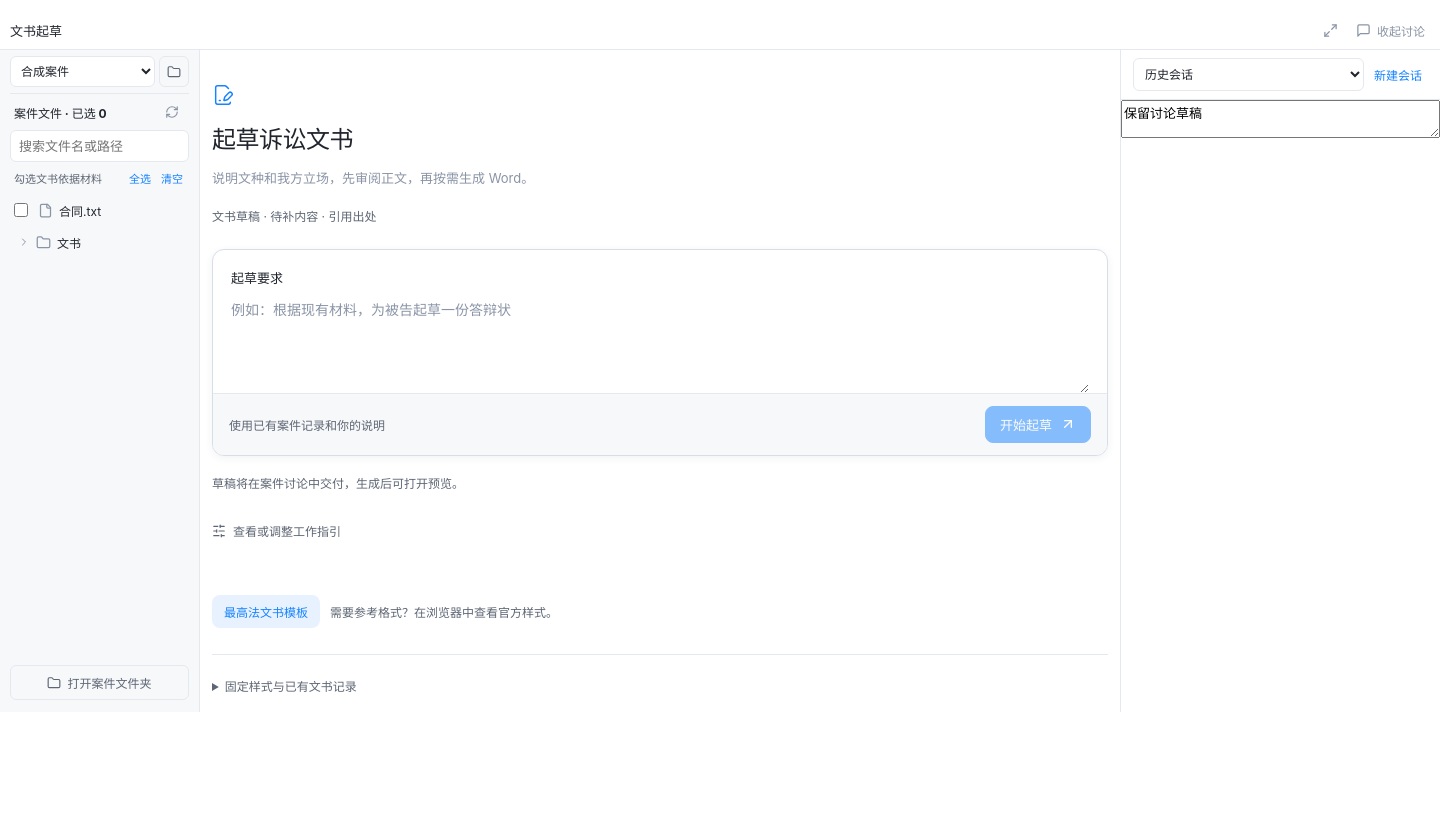
Scenario: expanded work area hides both panels and restores their content and draft
Expected: the button "合同.txt" is shown, [30,194,189,226]
Click the button named "展开工作区" at {"x": 1330, "y": 30}, box [1318,16,1343,45]
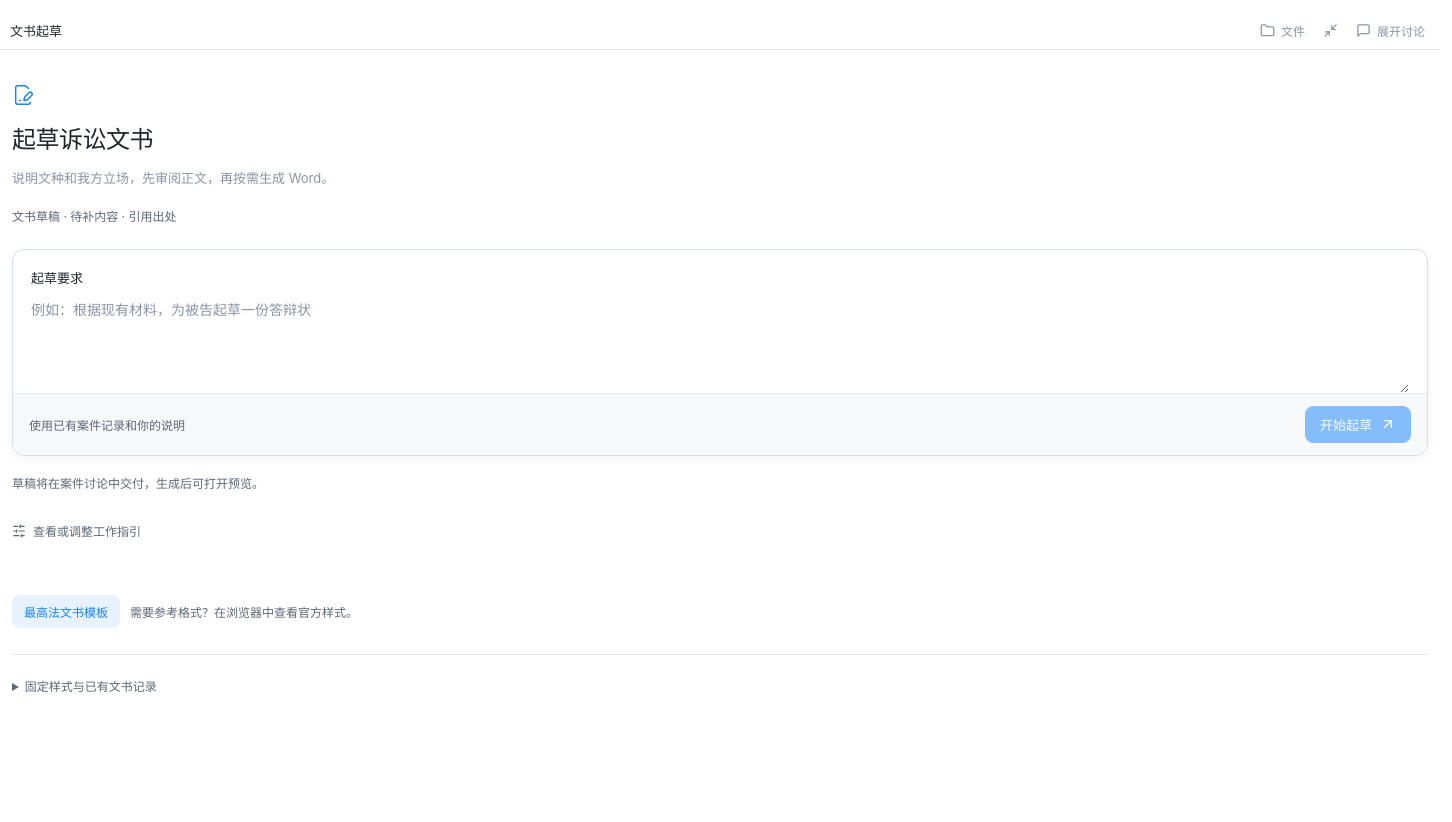
Expected: the element "当前工作区文件" is gone
Click the button named "恢复两侧栏" at {"x": 1330, "y": 30}, box [1318,16,1343,45]
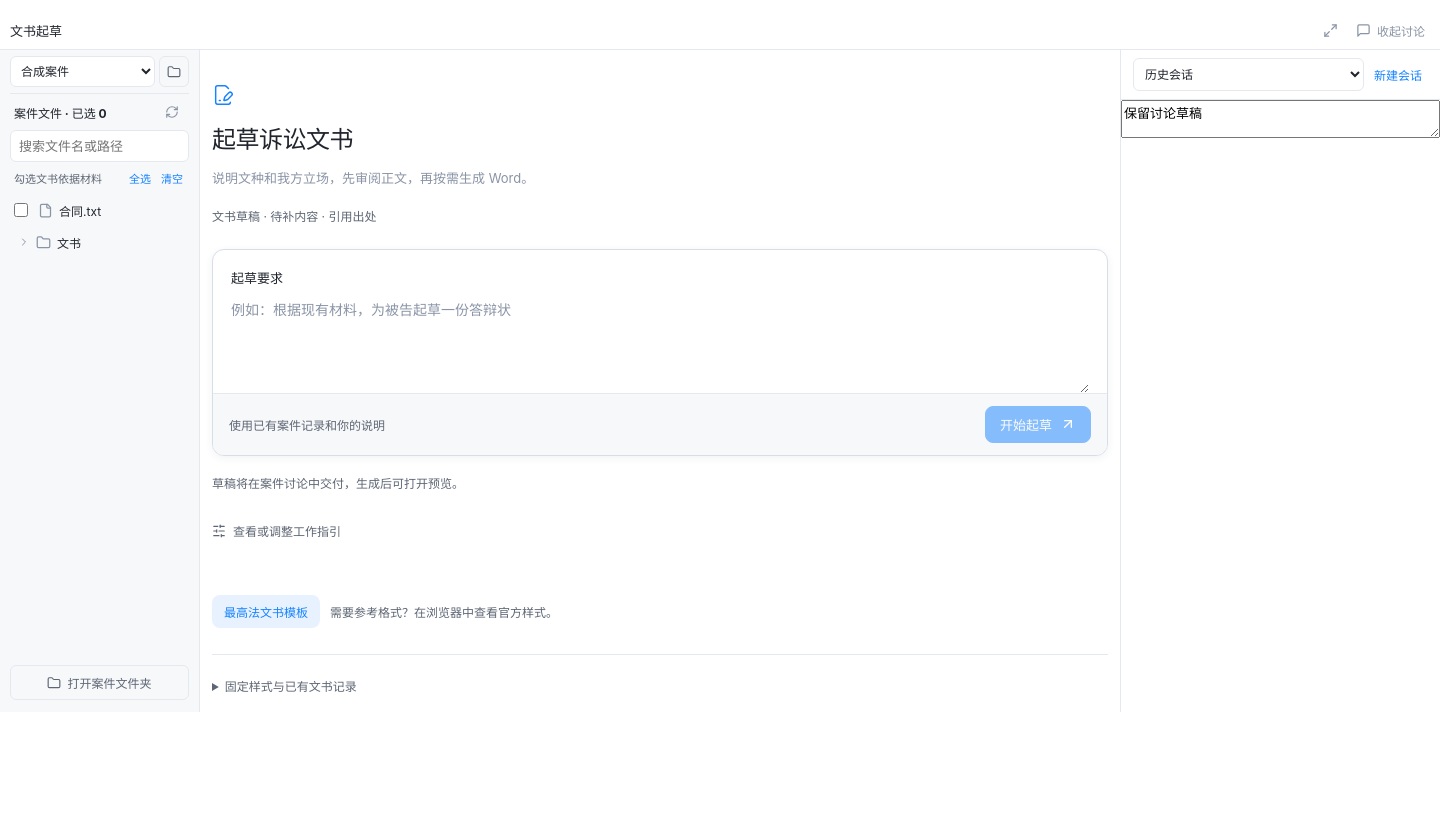
Expected: the button "合同.txt" is shown, [30,194,189,226]
Expected: the text box named "案件讨论内容" holds "保留讨论草稿", [1121,100,1440,138]
